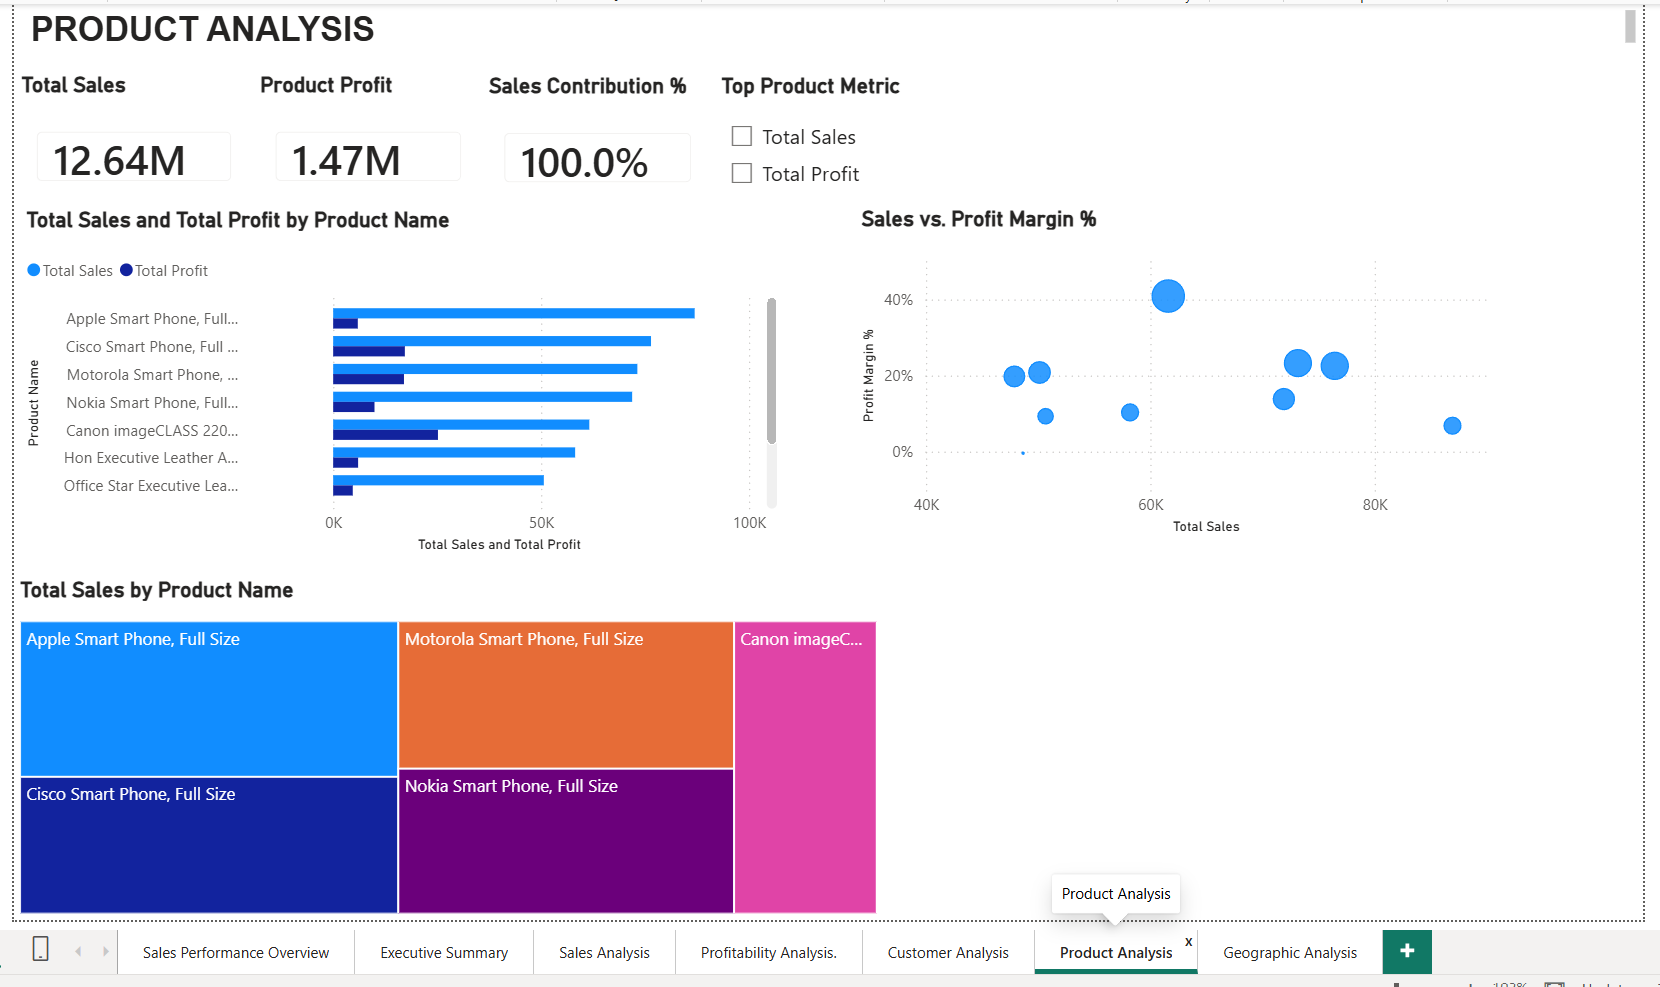

This screenshot's page, from the dashboard's own definition file:
{"tool":"powerbi","page":{"name":"Product Analysis","canvas":[1280,720],"ordinal":5},"visuals":[{"type":"cardVisual","title":"Total Sales","fields":{"Data":["Global-Superstore.Total Sales"]},"box":[1.1,53.3,187.8,103.3],"z":0},{"type":"cardVisual","title":"Product Profit","fields":{"Data":["Global-Superstore.Total Profit"]},"box":[188.9,53.3,180,103.3],"z":1000},{"type":"textbox","box":[1.1,0,1278.9,37.8],"z":2000},{"type":"cardVisual","title":"Sales Contribution %","fields":{"Data":["Calendar.Sales Contribution %"]},"box":[368.8,53.8,181.1,103.3],"z":3000},{"type":"clusteredBarChart","fields":{"Y":["Global-Superstore.Total Sales","Global-Superstore.Total Profit"],"Category":["Global-Superstore.Product Name"]},"box":[5,158.8,600,276.2],"z":4000},{"type":"slicer","title":"Top Product Metric","fields":{"Values":["Top Product Metric.Top Product Metric"]},"box":[551.2,53.8,220,103.8],"z":5000},{"type":"scatterChart","title":"Sales vs. Profit Margin %","fields":{"Category":["Global-Superstore.Product Name"],"X":["Global-Superstore.Total Sales"],"Y":["Global-Superstore.Profit Margin %"],"Size":["Global-Superstore.Total Profit"]},"box":[661.7,158.3,511.7,263.3],"z":6000},{"type":"treemap","fields":{"Values":["Global-Superstore.Total Sales"],"Group":["Global-Superstore.Product Name"]},"box":[0,450,683.3,270],"z":7000}]}

Visuals, with their boxes on the page's 1280x720 design canvas (x1, y1, x2, y2). These are canvas units, not pixel positions in the 1660x987 screenshot, which may show the page scaled, cropped or inside an application window:
"Total Sales" cardVisual: x1=1, y1=53, x2=189, y2=157
"Product Profit" cardVisual: x1=189, y1=53, x2=369, y2=157
textbox: x1=1, y1=0, x2=1280, y2=38
"Sales Contribution %" cardVisual: x1=369, y1=54, x2=550, y2=157
clusteredBarChart - Global-Superstore.Total Sales x Global-Superstore.Total Profit: x1=5, y1=159, x2=605, y2=435
"Top Product Metric" slicer: x1=551, y1=54, x2=771, y2=158
"Sales vs. Profit Margin %" scatterChart: x1=662, y1=158, x2=1173, y2=422
treemap - Global-Superstore.Total Sales x Global-Superstore.Product Name: x1=0, y1=450, x2=683, y2=720
